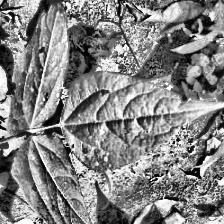ALS: (107, 46, 185, 112), (49, 112, 108, 150), (50, 18, 96, 56)
